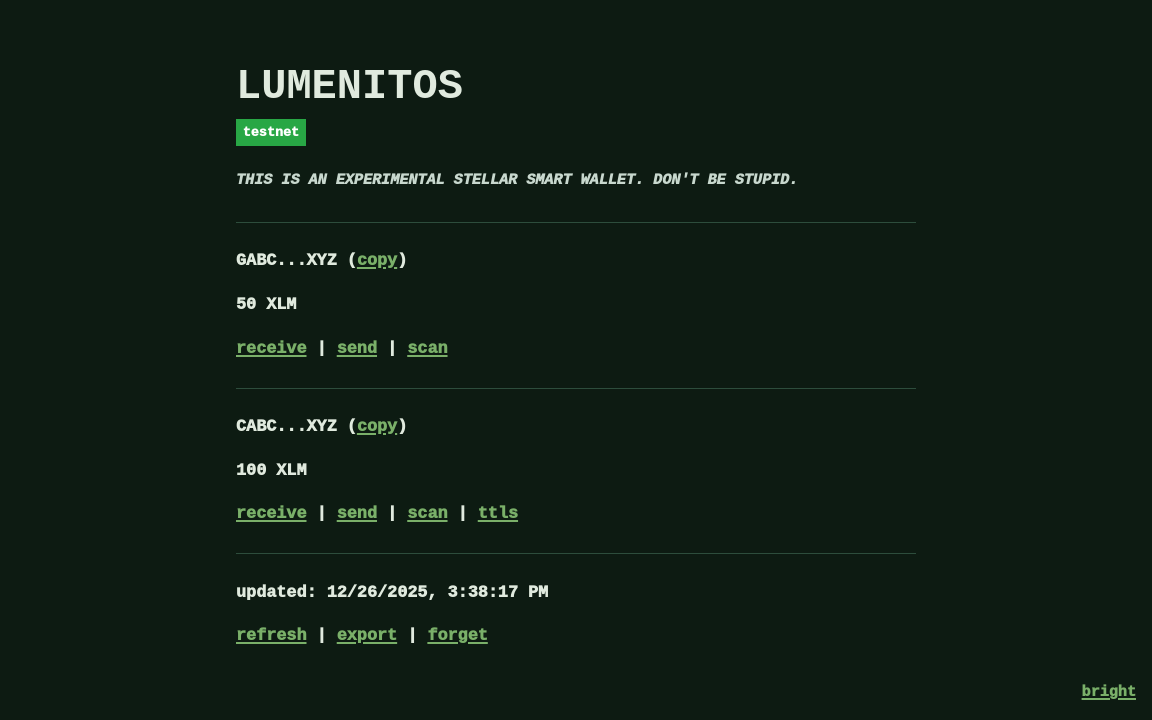
WalletDashboard › Send modal › opens send modal for contract account
The width and height of the screenshot is (1152, 720).
# Click the second "send" link (contract account)
Click the link "send" in the row of "ttls": (357, 514) [337,504,377,523]
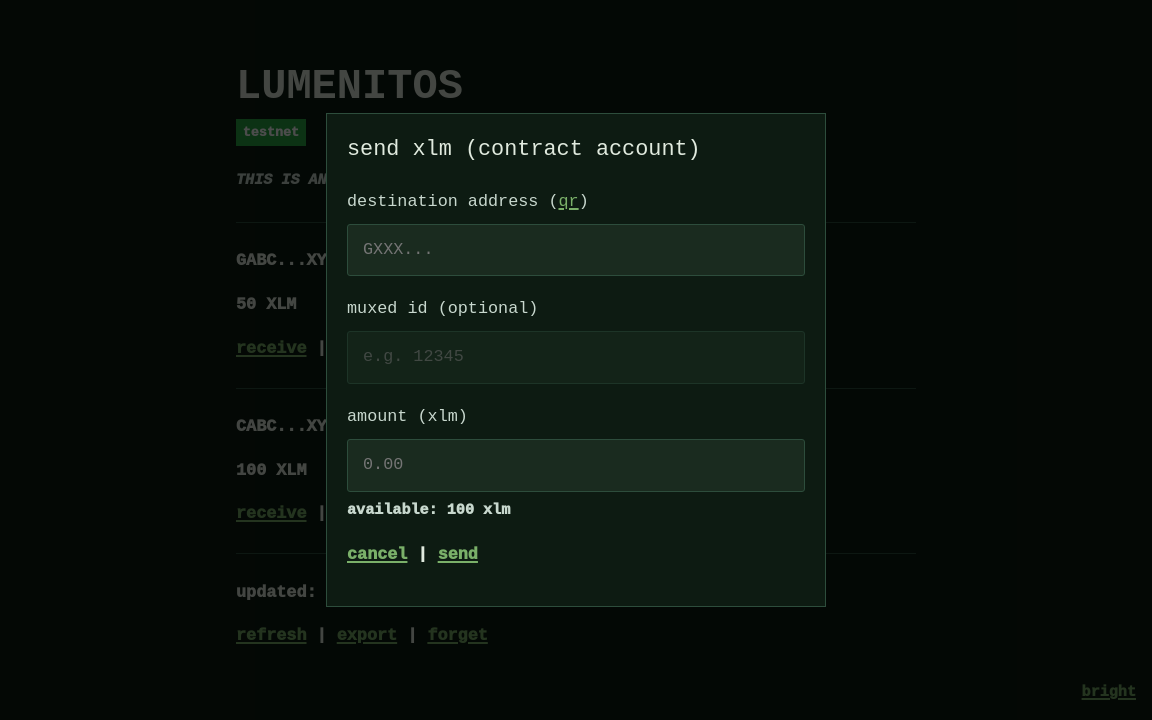
Result: the heading "send xlm (contract account)" is shown at [347,137,701,162]
